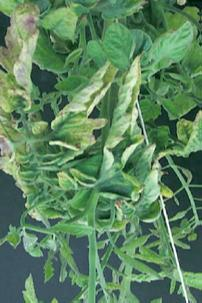Tomato leaf yellow virus: (52, 62, 120, 149), (153, 21, 194, 77), (101, 21, 138, 73), (180, 100, 202, 164), (44, 5, 84, 40), (170, 263, 202, 294)
